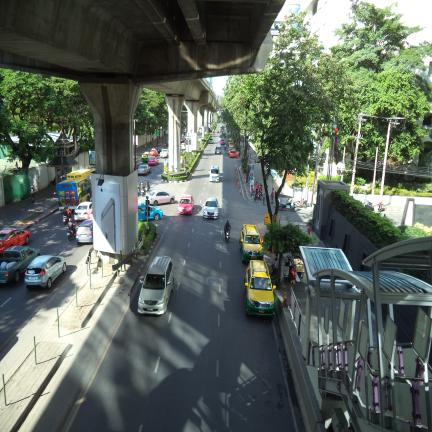bus: (57, 169, 92, 210), (92, 170, 94, 170)
car: (138, 256, 174, 314), (24, 255, 66, 288), (146, 190, 175, 206), (76, 220, 93, 245), (74, 201, 92, 221), (203, 197, 219, 219), (209, 166, 219, 182), (138, 164, 151, 175), (215, 146, 221, 154), (209, 138, 214, 143), (140, 280, 141, 282)
human: (271, 257, 279, 276), (68, 218, 76, 235), (284, 260, 290, 279), (224, 220, 231, 235), (30, 185, 34, 203), (255, 182, 259, 195), (140, 182, 145, 192), (271, 188, 274, 203)
motorbike: (278, 195, 300, 211), (251, 192, 263, 201), (67, 230, 76, 241), (225, 230, 230, 243), (63, 215, 69, 225), (257, 192, 263, 200), (251, 192, 256, 201), (145, 185, 150, 193), (141, 189, 146, 197), (224, 144, 226, 150)
pickup: (0, 246, 40, 283), (160, 149, 168, 158)
taxi: (244, 261, 276, 317), (240, 224, 264, 262), (0, 228, 30, 254), (138, 203, 163, 221), (178, 195, 194, 214), (229, 148, 239, 158), (141, 152, 150, 162), (148, 156, 158, 165), (149, 148, 158, 156), (220, 139, 225, 145)
